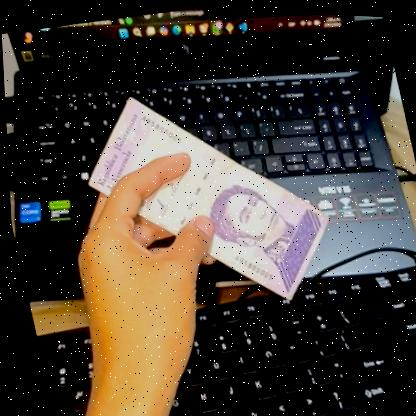ten-front-vef: (66, 61, 348, 333)
